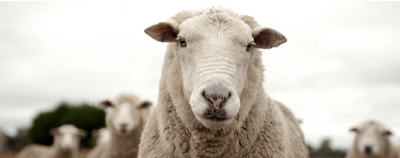koyun: (143, 7, 289, 130)
